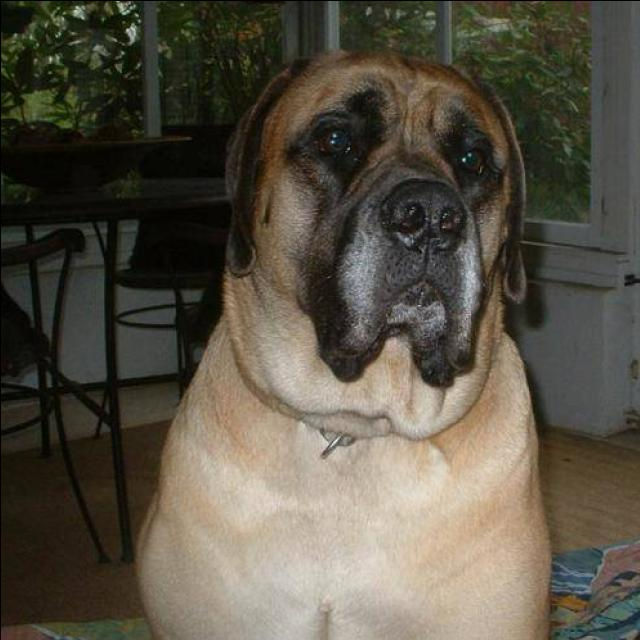dog: (77, 38, 567, 640)
